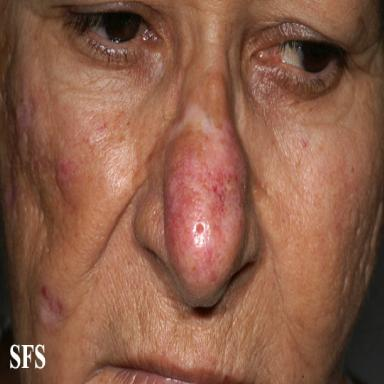Lupus-Erythematosus-Chronicus-Discoides: (163, 99, 245, 295)
